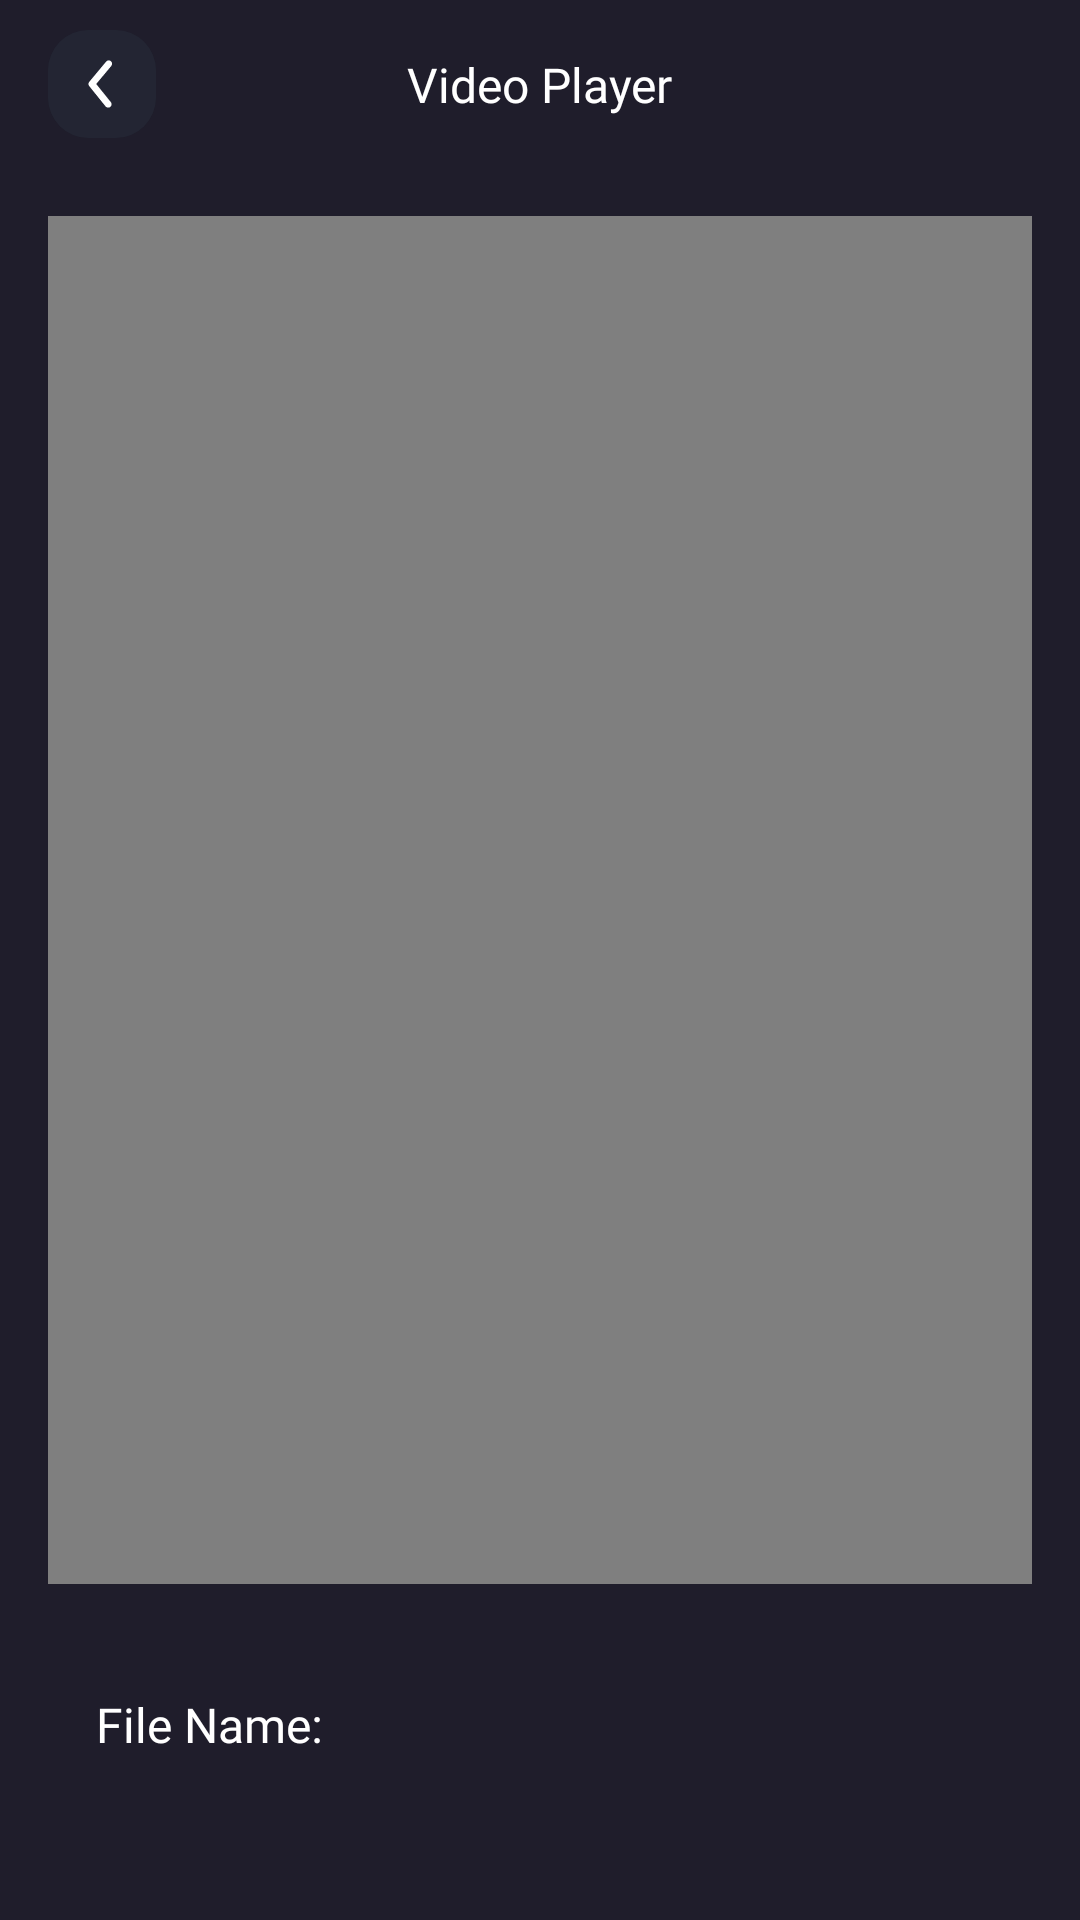

Icon bounding boxes for this 1080px x 1920px phone screenshot, format (x1, y1, x2, y2):
Back icon: (88, 60, 112, 108)
